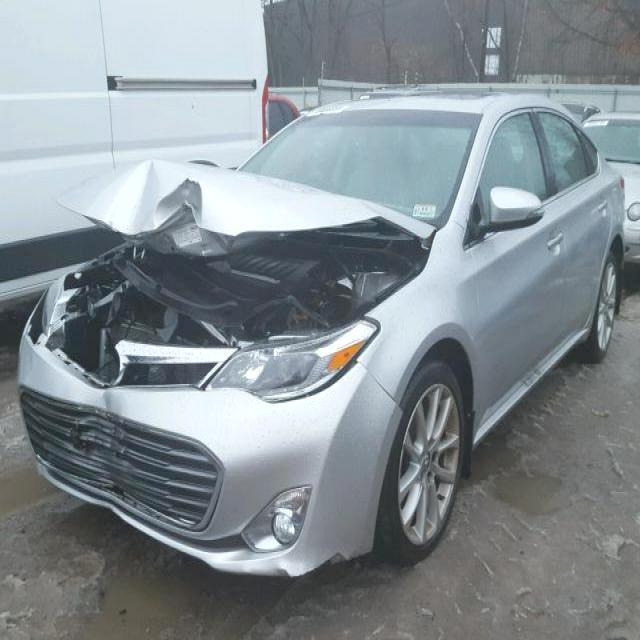minor: (22, 155, 433, 390), (80, 436, 112, 469), (96, 391, 111, 409)
